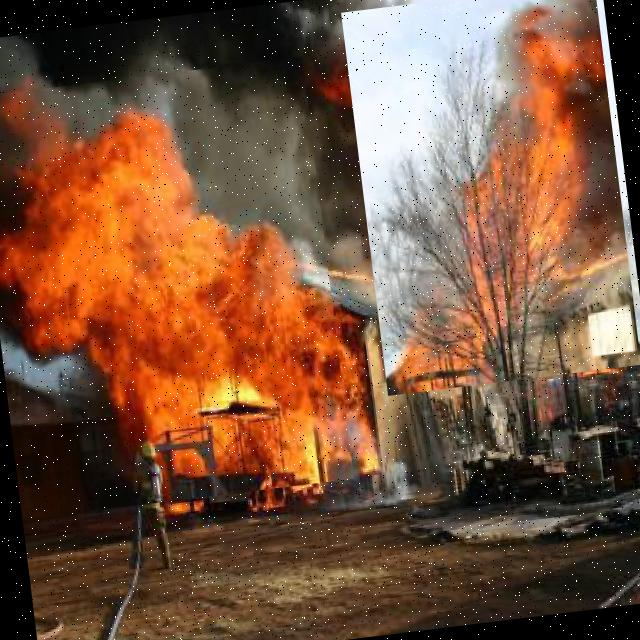fire: (0, 56, 353, 519), (340, 0, 640, 395)
